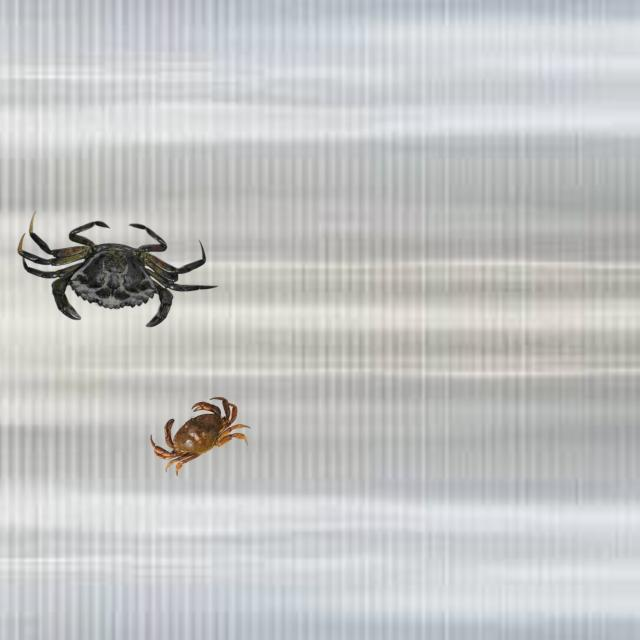European_Green_Crab: (8, 201, 223, 339)
